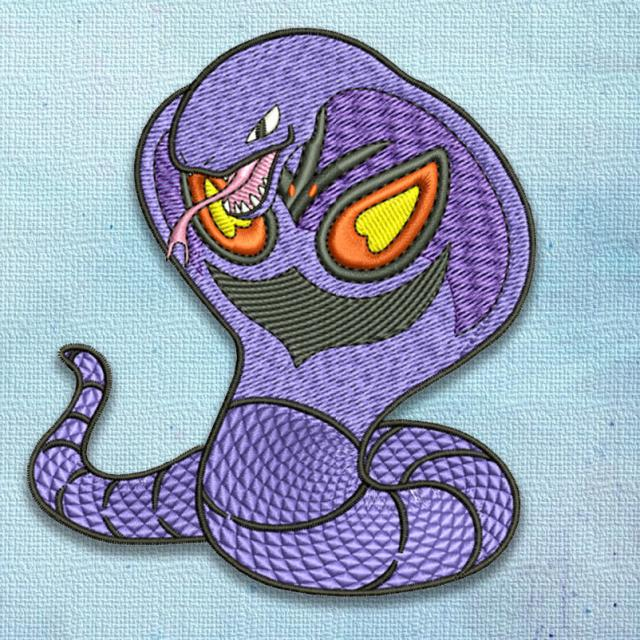Arbok: (128, 29, 540, 597)
